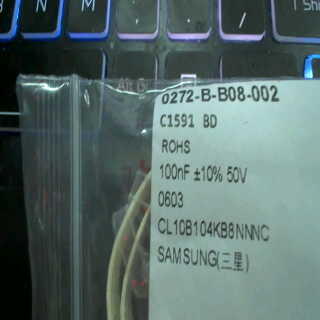100nF: (158, 161, 191, 185)
